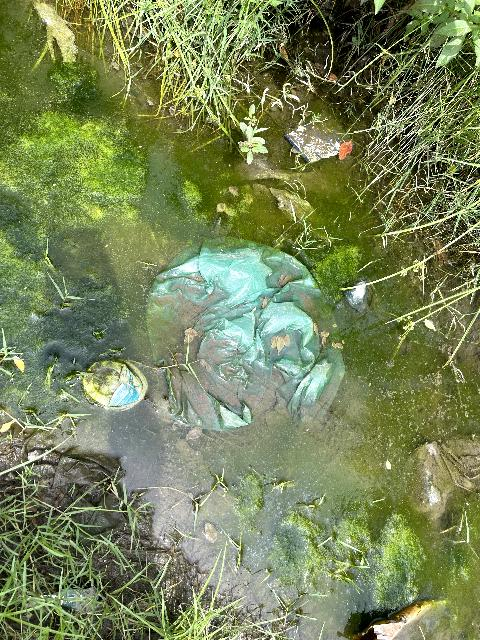polythene: (127, 244, 361, 447)
